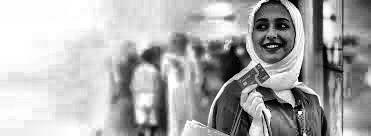happy: (248, 2, 301, 69)
